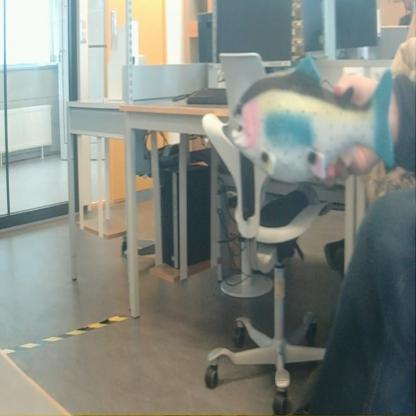rubberfish: (229, 53, 401, 183)
